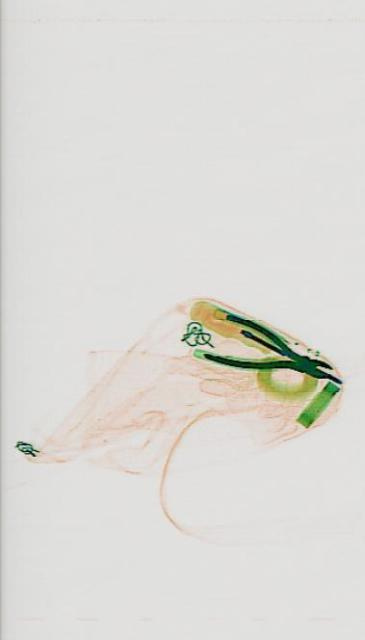Pliers: (200, 305, 333, 399)
